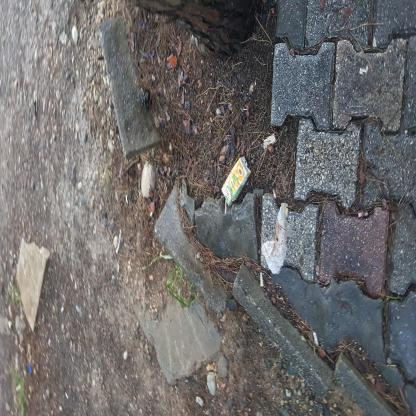trash: (110, 388, 148, 416)
